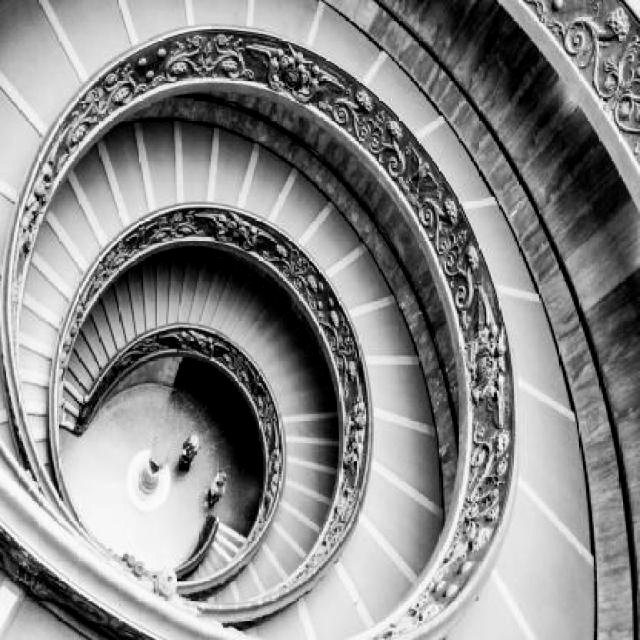stair: (0, 0, 596, 640)
